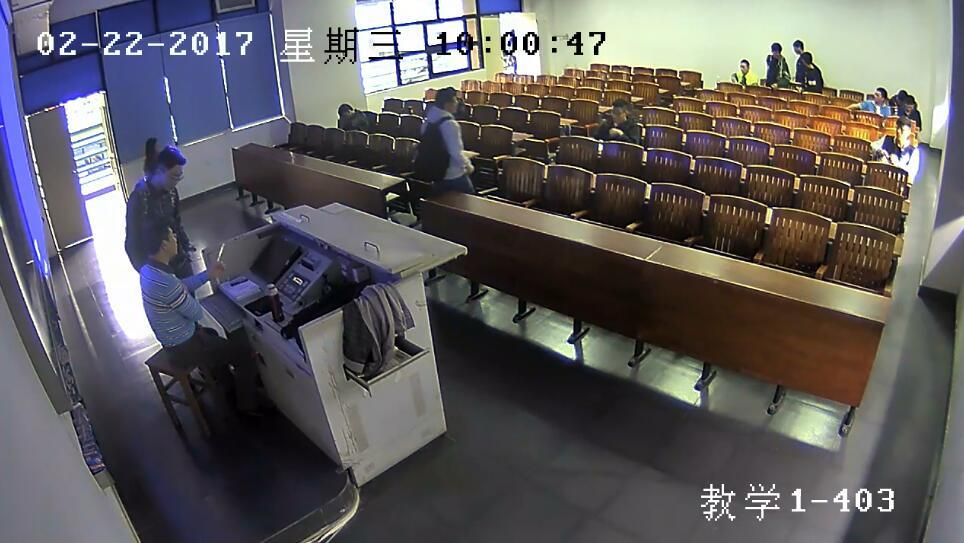head: (140, 214, 179, 261), (153, 147, 187, 194), (435, 85, 460, 113), (892, 115, 911, 143), (607, 96, 628, 121), (142, 134, 162, 155), (336, 101, 355, 118), (769, 40, 783, 57), (873, 86, 886, 104), (902, 94, 914, 113), (799, 50, 813, 66), (793, 37, 804, 53), (737, 58, 748, 72), (896, 89, 905, 100)
